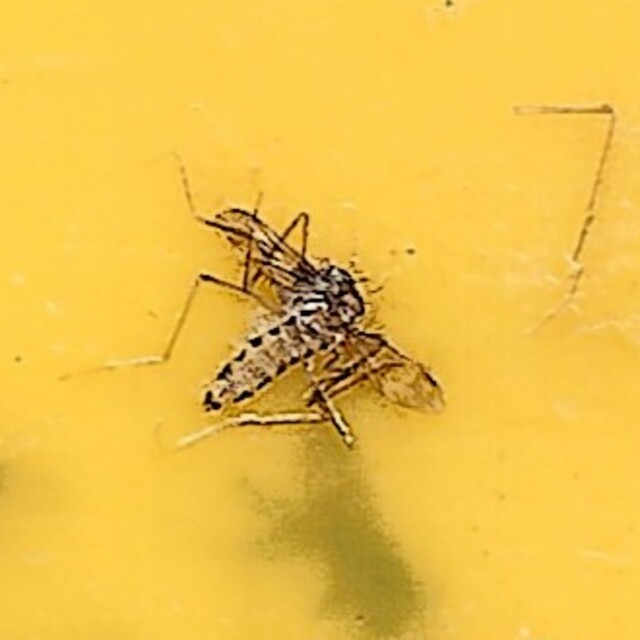Nematocera: (194, 195, 446, 445)
